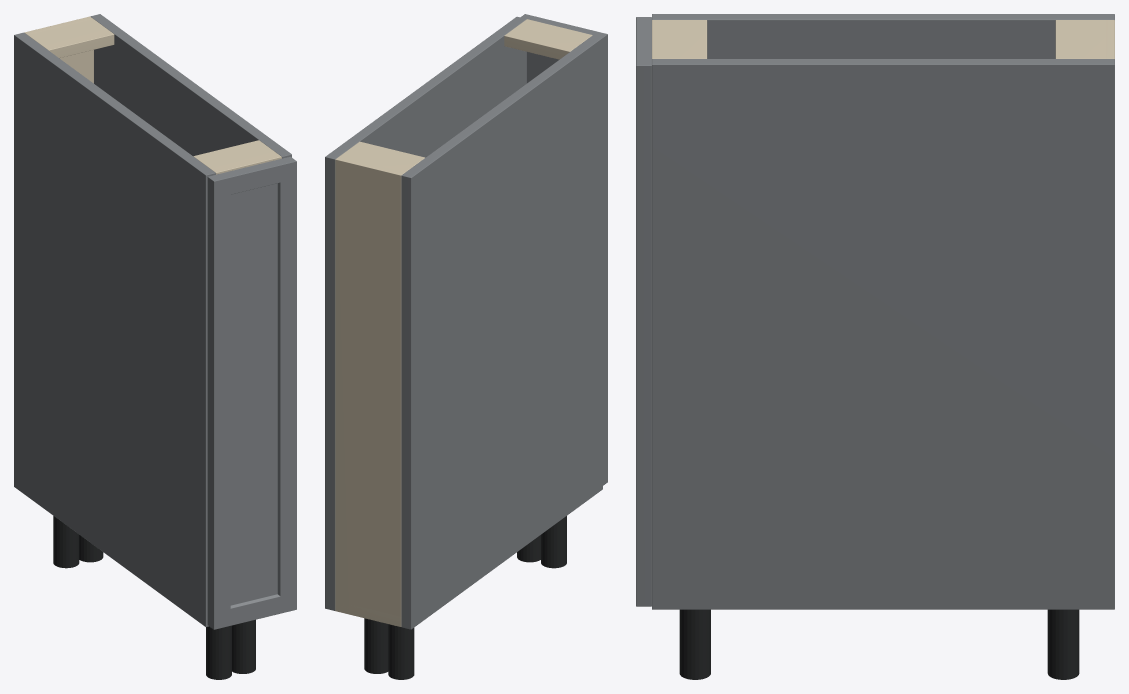
File: oppein-ply-gss-b06fh.glb
The picture shows the model from 3 angles, left to right: view 1: azimuth 30°, elevation 25°; view 2: azimuth 150°, elevation 25°; view 3: azimuth 270°, elevation 25°; orthographic projection. The views are drawn at different scales.
Visible parts, largest first — view 1: Cabinet side, Door, Cabinet side.001, Top support rail, Top support rail.001, Adjustable foot.001, Adjustable foot.003, Adjustable foot, Cabinet back, Adjustable foot.002; view 2: Cabinet side, Cabinet back, Cabinet side.001, Door, Top support rail.001, Adjustable foot, Top support rail, Adjustable foot.002, Adjustable foot.001, Cabinet bottom, Adjustable foot.003; view 3: Cabinet side.001, Cabinet side, Door, Adjustable foot.002, Adjustable foot.003, Top support rail.001, Top support rail.
Boxes of the visible parts, bbox=[...] form: Cabinet side: bbox=[14, 32, 215, 626]; Door: bbox=[207, 156, 296, 629]; Cabinet side.001: bbox=[90, 14, 291, 158]; Top support rail: bbox=[26, 19, 114, 58]; Top support rail.001: bbox=[193, 140, 281, 174]; Adjustable foot.001: bbox=[206, 625, 231, 679]; Adjustable foot.003: bbox=[232, 619, 255, 673]; Adjustable foot: bbox=[53, 516, 79, 568]; Cabinet back: bbox=[24, 16, 93, 83]; Adjustable foot.002: bbox=[79, 535, 103, 562]; Cabinet side: bbox=[401, 35, 602, 629]; Cabinet back: bbox=[335, 156, 403, 626]; Cabinet side.001: bbox=[325, 16, 526, 610]; Door: bbox=[520, 14, 607, 485]; Top support rail.001: bbox=[504, 19, 592, 59]; Adjustable foot: bbox=[388, 624, 414, 679]; Top support rail: bbox=[339, 141, 424, 173]; Adjustable foot.002: bbox=[364, 618, 388, 673]; Adjustable foot.001: bbox=[541, 516, 566, 568]; Cabinet bottom: bbox=[335, 605, 401, 626]; Adjustable foot.003: bbox=[517, 535, 540, 562]; Cabinet side.001: bbox=[652, 59, 1114, 609]; Cabinet side: bbox=[652, 14, 1114, 58]; Door: bbox=[636, 17, 651, 606]; Adjustable foot.002: bbox=[1047, 609, 1079, 679]; Adjustable foot.003: bbox=[679, 609, 710, 679]; Top support rail.001: bbox=[652, 20, 707, 58]; Top support rail: bbox=[1055, 20, 1109, 58].
Bounding box in the file's own units: 0.1524 × 0.8763 × 0.6064.
